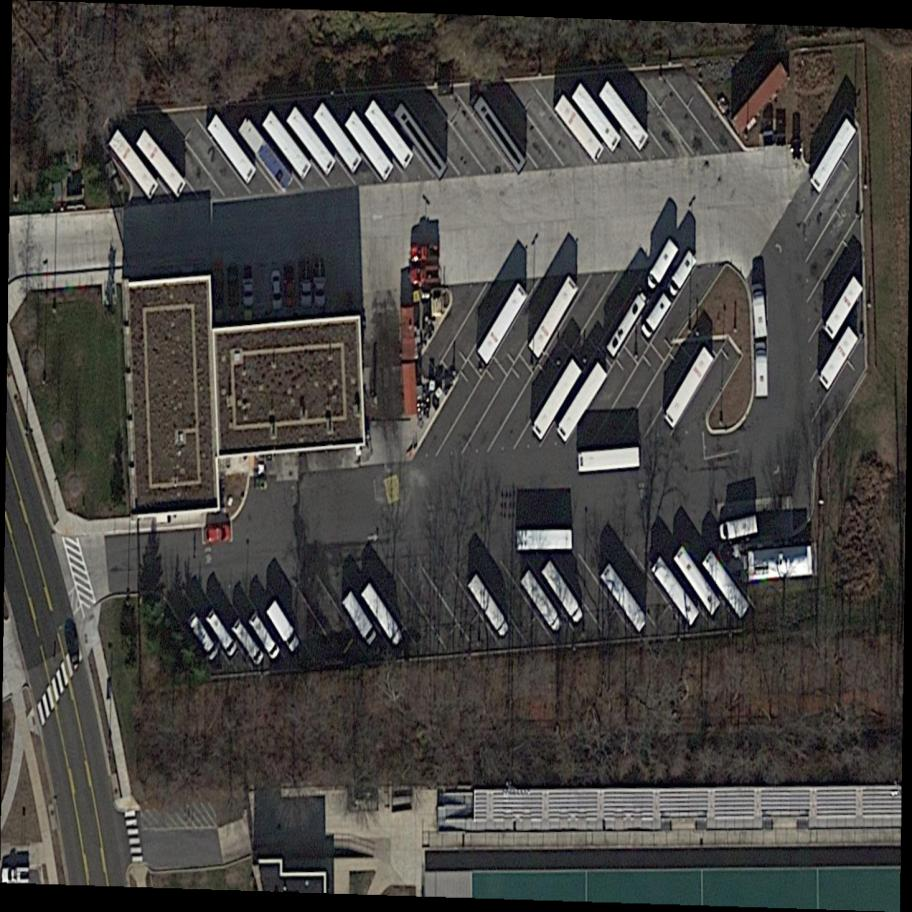large-vehicle: (473, 282, 533, 368), (553, 360, 614, 444), (660, 345, 719, 431), (528, 358, 587, 443), (234, 115, 297, 194), (526, 274, 582, 357), (103, 128, 164, 202), (593, 78, 653, 153), (340, 108, 399, 182), (202, 111, 261, 185), (359, 98, 418, 171), (283, 106, 342, 177), (806, 119, 859, 197), (567, 83, 626, 153), (550, 94, 608, 164), (597, 564, 654, 635), (647, 556, 704, 627), (670, 545, 725, 618), (133, 129, 190, 197), (699, 550, 754, 618), (537, 558, 588, 627), (604, 290, 652, 360), (820, 274, 868, 341), (465, 574, 513, 640), (818, 326, 863, 392), (517, 570, 564, 633), (359, 583, 406, 645), (340, 590, 381, 648), (264, 600, 304, 654), (644, 239, 682, 294), (203, 608, 242, 661), (228, 617, 267, 668), (576, 445, 643, 474), (185, 612, 222, 663), (247, 611, 284, 662), (664, 250, 701, 300), (638, 293, 674, 342), (516, 527, 574, 553), (719, 516, 761, 542), (751, 285, 767, 338), (753, 342, 768, 398)
small-vehicle: (64, 631, 82, 671), (226, 268, 242, 310), (410, 244, 441, 265), (204, 525, 233, 545), (409, 267, 441, 284), (241, 274, 255, 312), (1, 865, 30, 883), (283, 267, 296, 307), (212, 268, 225, 307), (270, 271, 282, 310)
